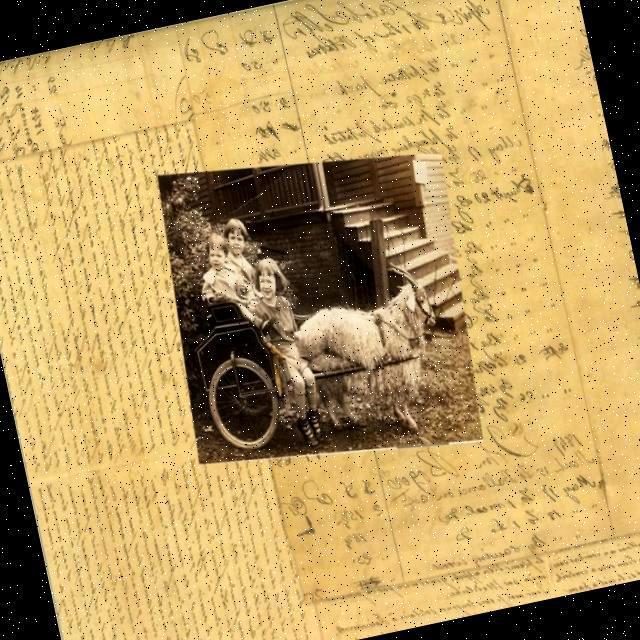sheep: (294, 282, 435, 427)
